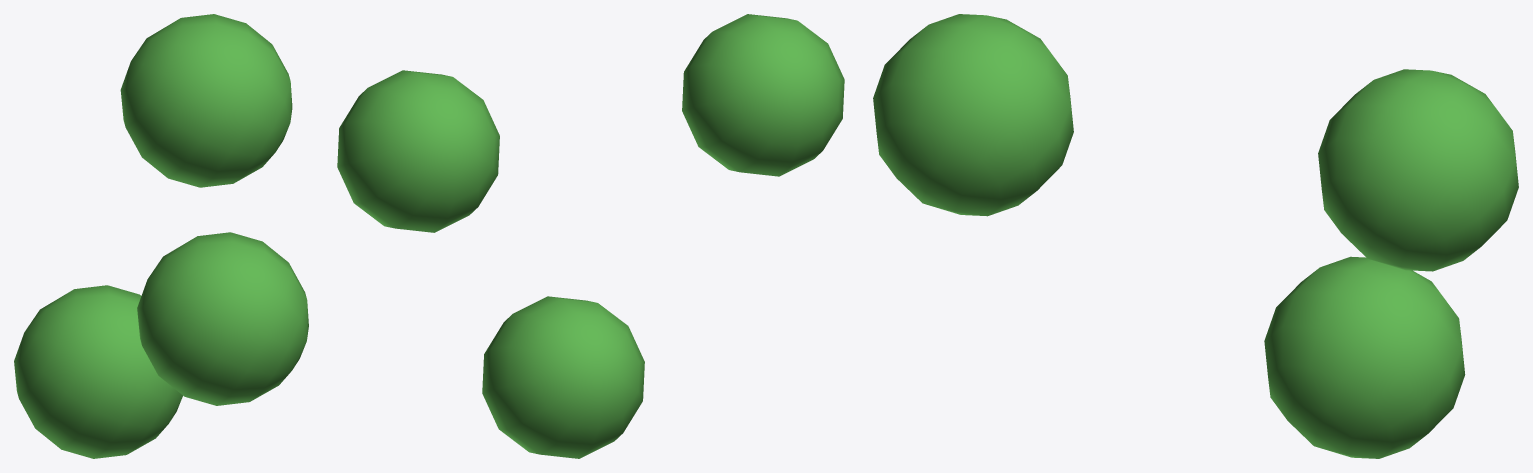
The model's file is linfatico-pre-auricular-nodes-l.glb.
The picture shows the model from 3 angles, left to right: view 1: azimuth 30°, elevation 25°; view 2: azimuth 150°, elevation 25°; view 3: azimuth 270°, elevation 25°; orthographic projection. The views are drawn at different scales.
Visible parts, largest first — view 1: Pre-auricular nodes.l; view 2: Pre-auricular nodes.l; view 3: Pre-auricular nodes.l.
Part boxes in pixels (left/top/right/bottom): Pre-auricular nodes.l: left=14, top=14, right=308, bottom=458; Pre-auricular nodes.l: left=337, top=14, right=844, bottom=458; Pre-auricular nodes.l: left=873, top=14, right=1518, bottom=458.
Size of the model in its own units: 0.00557 by 0.00625 by 0.0082.
